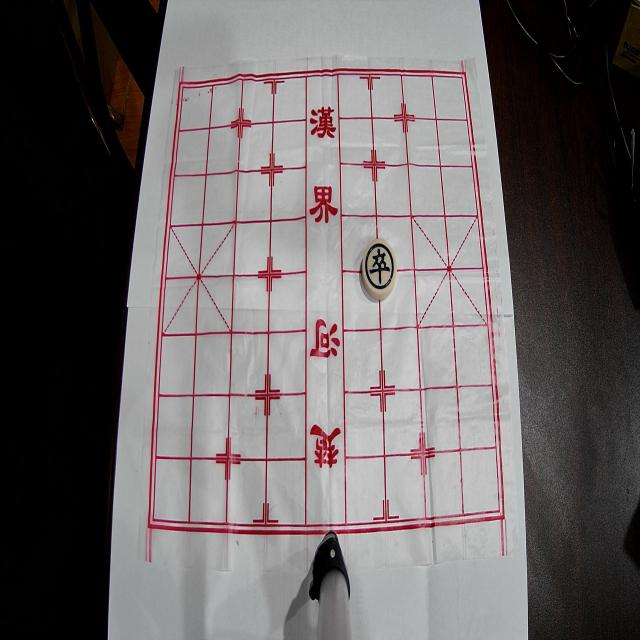black-soldier: (362, 238, 397, 300)
